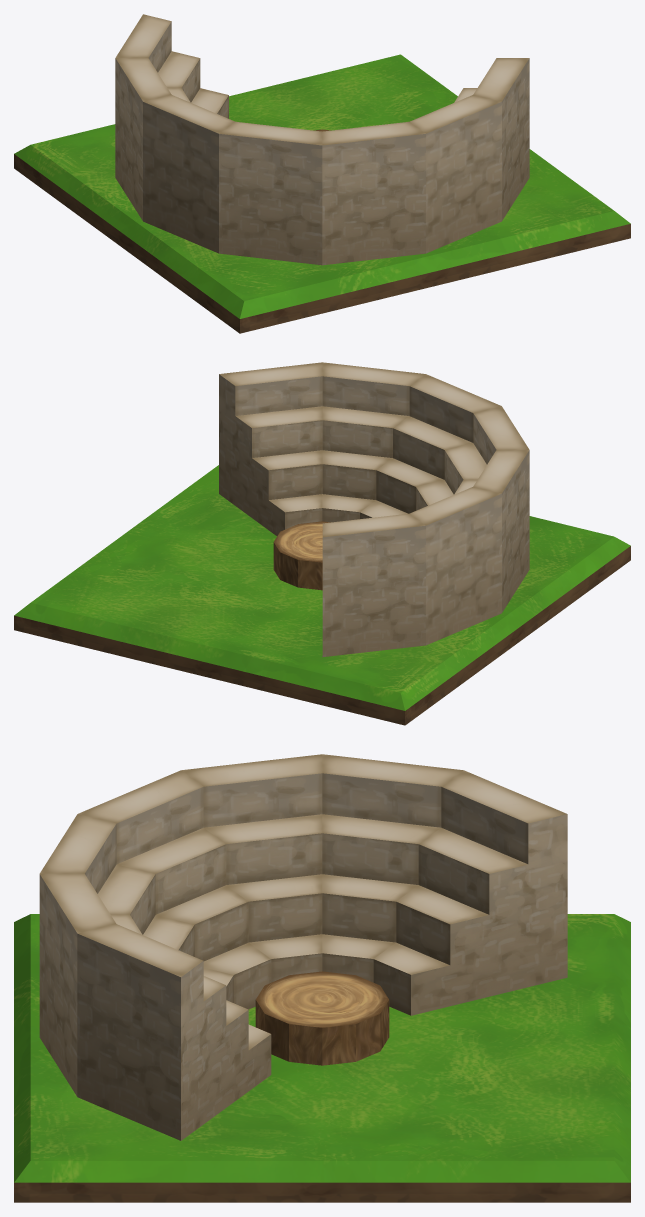
Rendered from Stage 1.fbx.
3 views of the same model, one above another, from view 1: azimuth 30°, elevation 25°; view 2: azimuth 150°, elevation 25°; view 3: azimuth 270°, elevation 25° (orthographic). The views are drawn at different scales.
Visible parts, largest first — view 1: Stage; view 2: Stage; view 3: Stage.
Boxes of the visible parts, <box> form: Stage: <box>14,14,630,333</box>; Stage: <box>14,362,630,725</box>; Stage: <box>14,754,630,1202</box>.
Bounding box in the file's own units: 51.25 × 18.2 × 51.25.
Materials: 1 (1 with a texture image).
